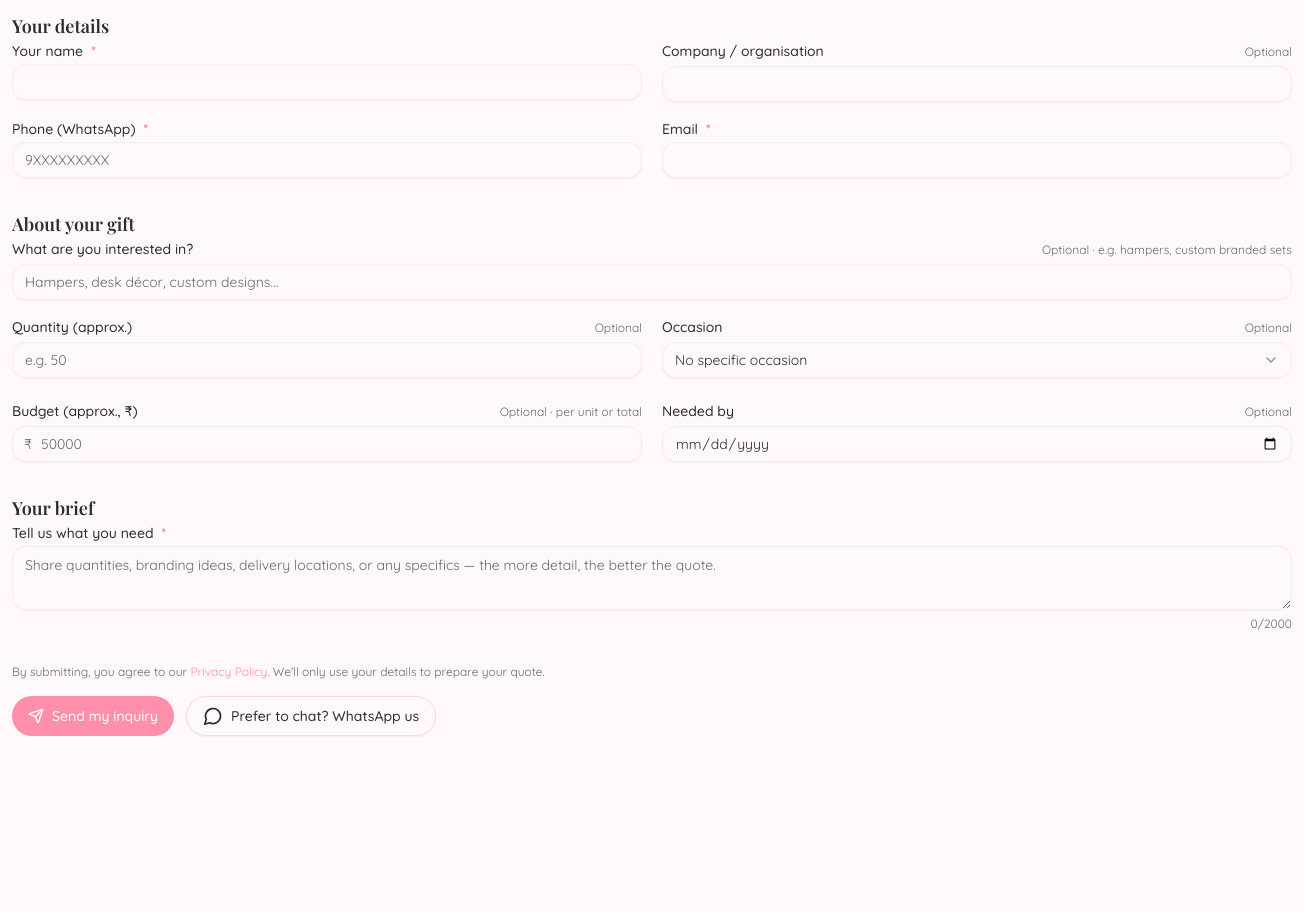
Test case: BulkOrderForm › does not call the action when required fields are empty
Click the button "Send my inquiry": (93, 716) [12, 696, 174, 736]
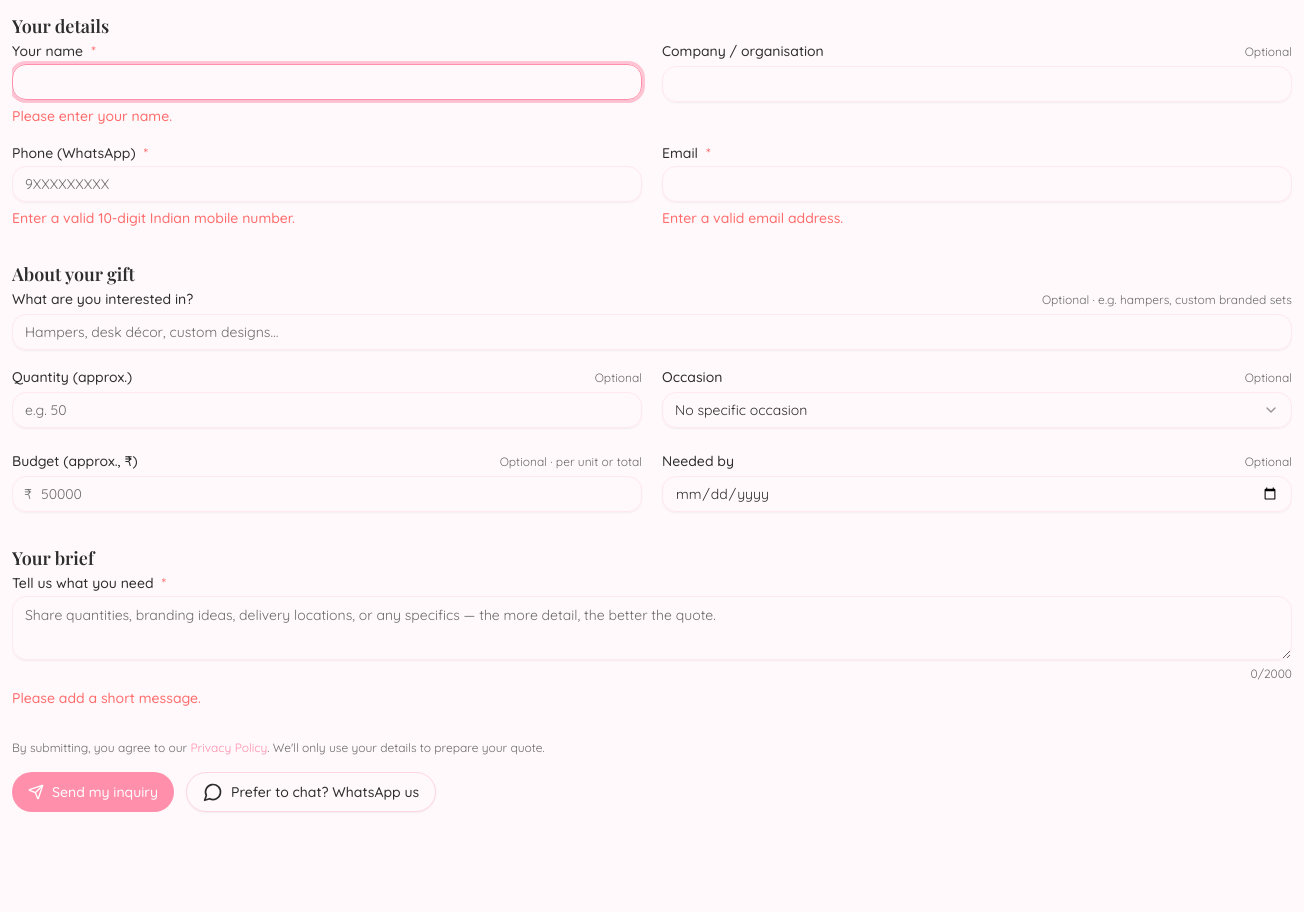
Check: the text "Please enter your name." is shown, box [12, 107, 172, 125]
